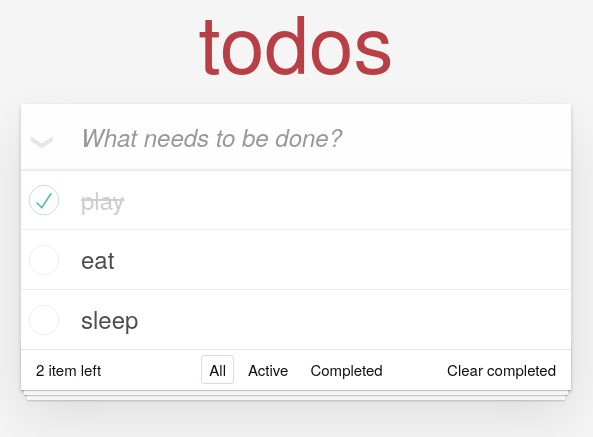
Test: 切换所有任务的完成状态 › 当所有任务已完成的时候，全选按钮应该被选中，否则不选中
Expected: the checkbox with test id "toggle-all" is not checked, top-left (21, 106), bottom-right (55, 166)
Click the checkbox with test id "todo-done". click: (296, 260)
box: top-left (21, 230), bottom-right (571, 289)
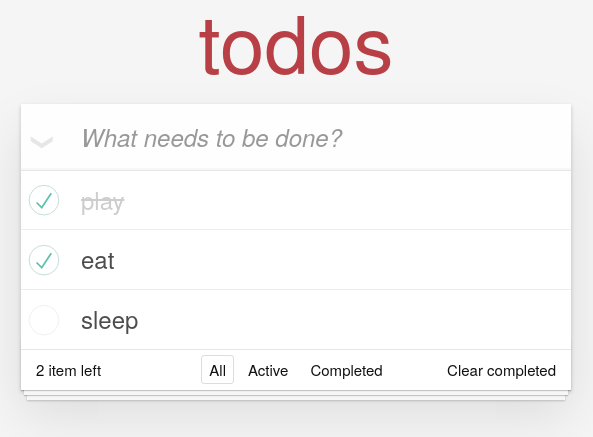
Click the checkbox with test id "todo-done". click: (296, 320)
box: top-left (21, 290), bottom-right (571, 349)
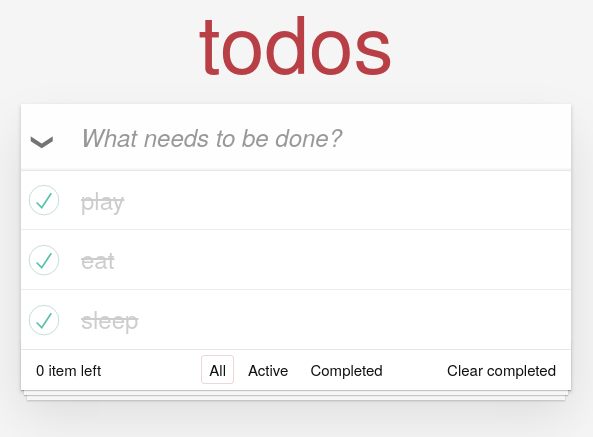
Now the checkbox with test id "toggle-all" is checked, box top-left (21, 106), bottom-right (55, 166)
Click the checkbox with test id "todo-done". click: (296, 200)
box: top-left (21, 171), bottom-right (571, 229)
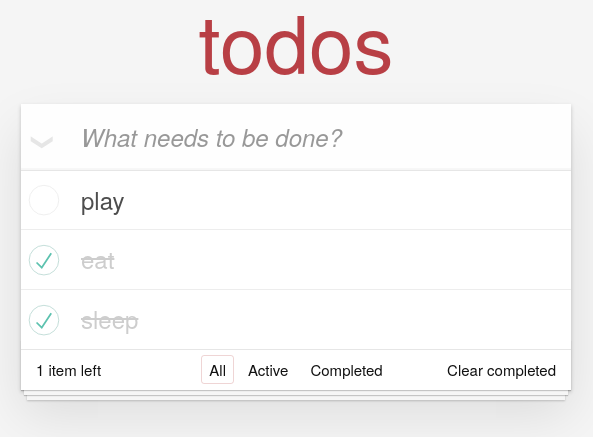
Now the checkbox with test id "toggle-all" is not checked, box top-left (21, 106), bottom-right (55, 166)
